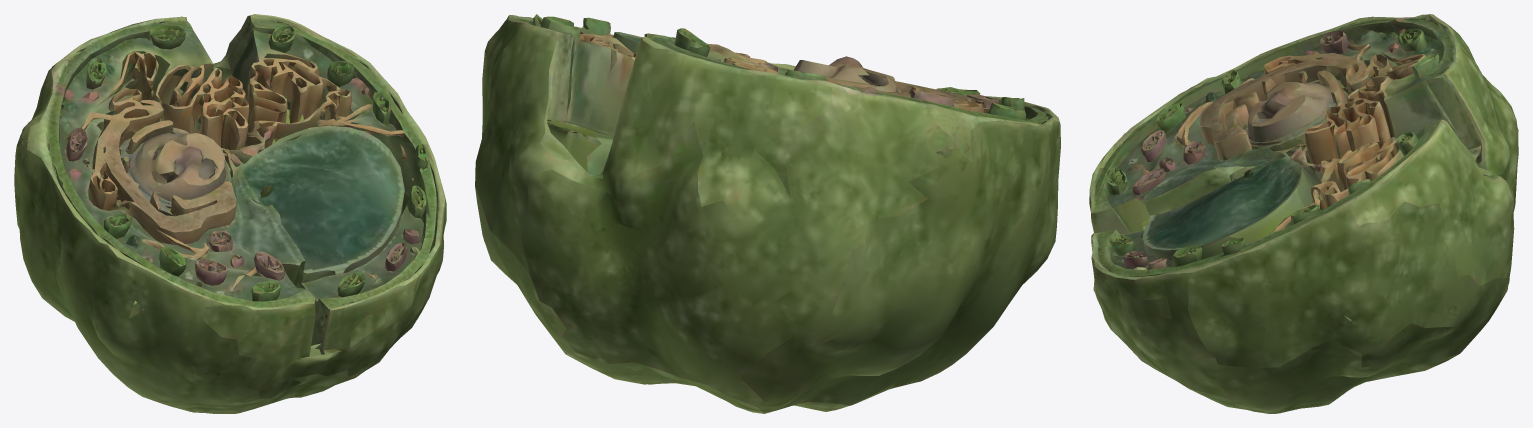
The model's file is plant-cell-trellis.glb.
3 views of the same model, side by side, from view 1: azimuth 30°, elevation 25°; view 2: azimuth 150°, elevation 25°; view 3: azimuth 270°, elevation 25° (orthographic). The views are drawn at different scales.
Visible parts, largest first — view 1: cell_wall, chloroplast, vacuole, endoplasmic_reticulum, nucleus, cell_membrane; view 2: cell_wall, endoplasmic_reticulum, chloroplast, cell_membrane, nucleus, vacuole; view 3: cell_wall, chloroplast, vacuole, endoplasmic_reticulum, nucleus, cell_membrane.
Part boxes in pixels (left/top/right/bottom): cell_wall: left=14, top=14, right=446, bottom=413; chloroplast: left=48, top=21, right=296, bottom=314; vacuole: left=221, top=122, right=426, bottom=341; endoplasmic_reticulum: left=102, top=15, right=404, bottom=216; nucleus: left=125, top=128, right=231, bottom=208; cell_membrane: left=48, top=64, right=425, bottom=333; cell_wall: left=475, top=15, right=1060, bottom=413; endoplasmic_reticulum: left=529, top=14, right=947, bottom=135; chloroplast: left=649, top=28, right=1048, bottom=124; cell_membrane: left=547, top=120, right=614, bottom=175; nucleus: left=794, top=56, right=900, bottom=92; vacuole: left=613, top=32, right=777, bottom=71; cell_wall: left=1089, top=14, right=1518, bottom=413; chloroplast: left=1104, top=19, right=1451, bottom=204; vacuole: left=1109, top=144, right=1342, bottom=269; endoplasmic_reticulum: left=1225, top=65, right=1481, bottom=233; nucleus: left=1245, top=70, right=1336, bottom=156; cell_membrane: left=1094, top=145, right=1481, bottom=255.
Size of the model in its own units: 0.3 by 0.2496 by 0.2948.
1 material, 1 textured.
